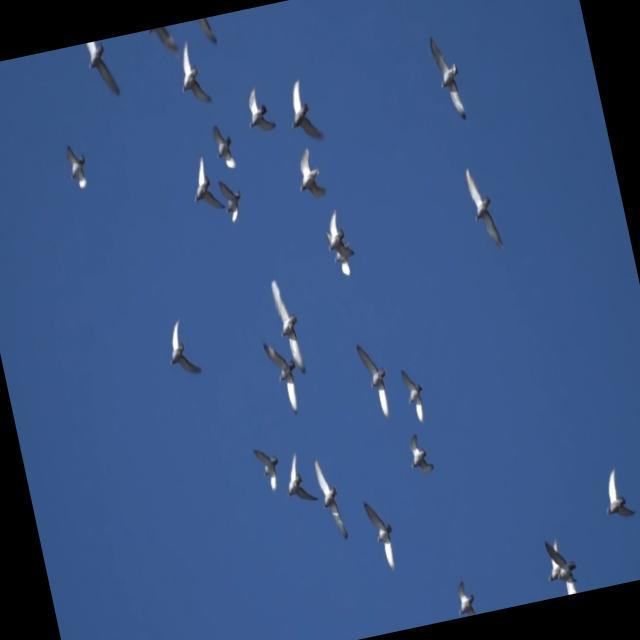bird: (266, 276, 311, 377), (425, 29, 470, 123), (461, 162, 504, 254), (262, 336, 306, 420), (311, 454, 351, 544), (353, 337, 395, 421), (281, 74, 326, 149), (359, 494, 400, 575), (172, 35, 215, 112), (159, 314, 204, 383), (80, 38, 123, 104), (183, 154, 224, 217), (290, 145, 330, 208), (597, 463, 638, 523), (543, 534, 582, 597), (278, 448, 318, 508), (398, 362, 432, 426), (241, 82, 279, 138), (539, 536, 578, 589), (320, 205, 356, 260), (207, 119, 240, 177), (61, 139, 94, 193), (251, 443, 284, 497), (403, 431, 437, 481), (325, 227, 356, 279), (216, 175, 246, 226), (451, 578, 478, 618)
